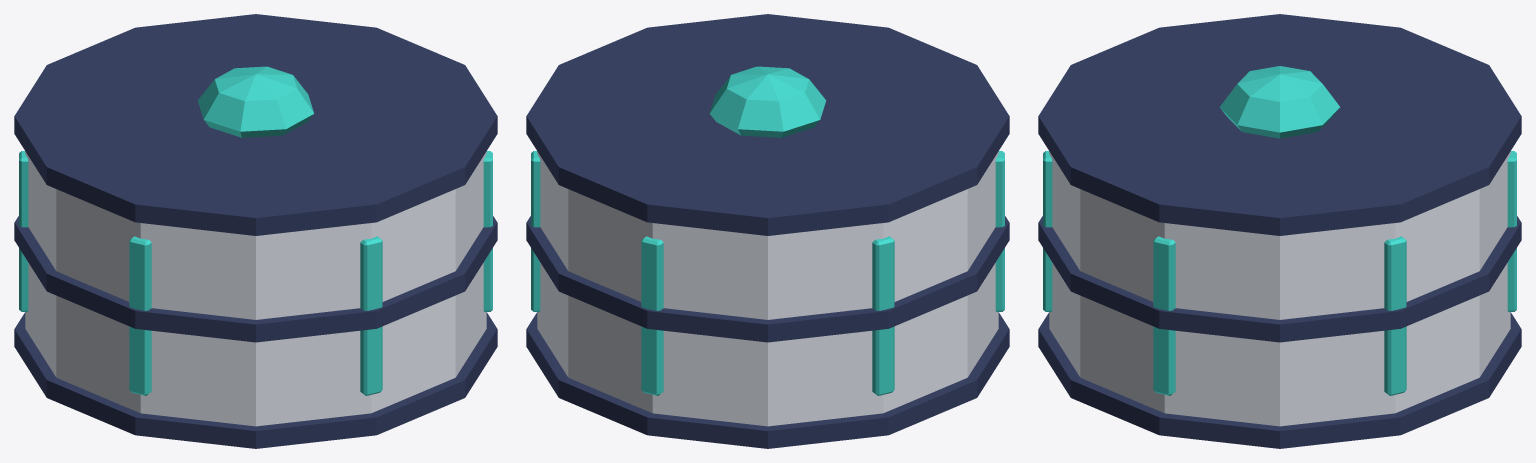
3 views of the same model, side by side, from view 1: azimuth 30°, elevation 25°; view 2: azimuth 150°, elevation 25°; view 3: azimuth 270°, elevation 25° (orthographic).
Visible parts, largest first — view 1: rim.002, capsule, rim, rim.001, power crystal, power strip.003, power strip.004, power strip.002, power strip.005; view 2: rim.002, capsule, rim, rim.001, power crystal, power strip, power strip.005, power strip.001, power strip.004; view 3: rim.002, capsule, rim, rim.001, power crystal, power strip.001, power strip.002, power strip, power strip.003.
Part boxes in pixels (bbox=[...]): rim.002: bbox=[14, 14, 497, 235]; capsule: bbox=[25, 151, 486, 426]; rim: bbox=[14, 312, 497, 448]; rim.001: bbox=[14, 216, 497, 342]; power crystal: bbox=[197, 66, 314, 137]; power strip.003: bbox=[360, 236, 382, 395]; power strip.004: bbox=[129, 236, 151, 395]; power strip.002: bbox=[483, 151, 492, 311]; power strip.005: bbox=[19, 151, 28, 311]; rim.002: bbox=[526, 14, 1009, 235]; capsule: bbox=[537, 151, 998, 426]; rim: bbox=[526, 312, 1009, 448]; rim.001: bbox=[526, 216, 1009, 342]; power crystal: bbox=[709, 66, 826, 137]; power strip: bbox=[641, 236, 663, 395]; power strip.005: bbox=[872, 236, 894, 395]; power strip.001: bbox=[531, 151, 540, 311]; power strip.004: bbox=[995, 151, 1004, 311]; rim.002: bbox=[1038, 14, 1521, 235]; capsule: bbox=[1049, 151, 1510, 426]; rim: bbox=[1038, 312, 1521, 448]; rim.001: bbox=[1038, 216, 1521, 342]; power crystal: bbox=[1220, 66, 1339, 138]; power strip.001: bbox=[1384, 236, 1406, 395]; power strip.002: bbox=[1153, 236, 1175, 395]; power strip: bbox=[1507, 151, 1516, 311]; power strip.003: bbox=[1043, 151, 1052, 311].
Bounding box in the file's own units: 4.4 × 2.74 × 4.4.
